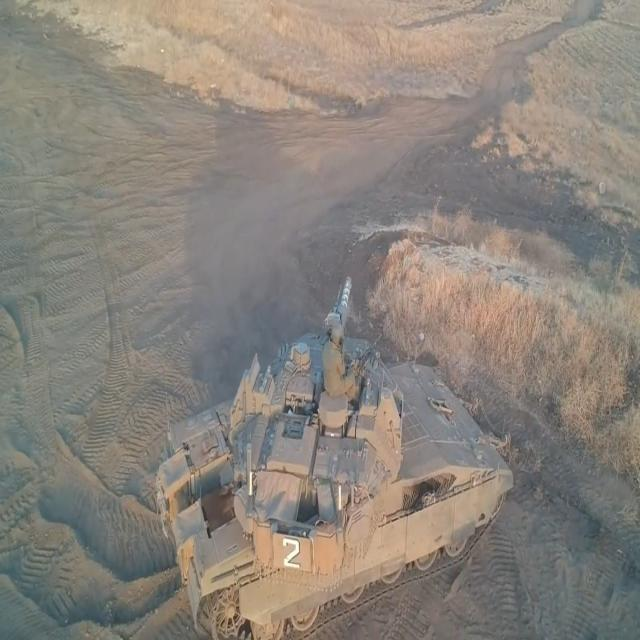tank: (146, 272, 520, 640)
